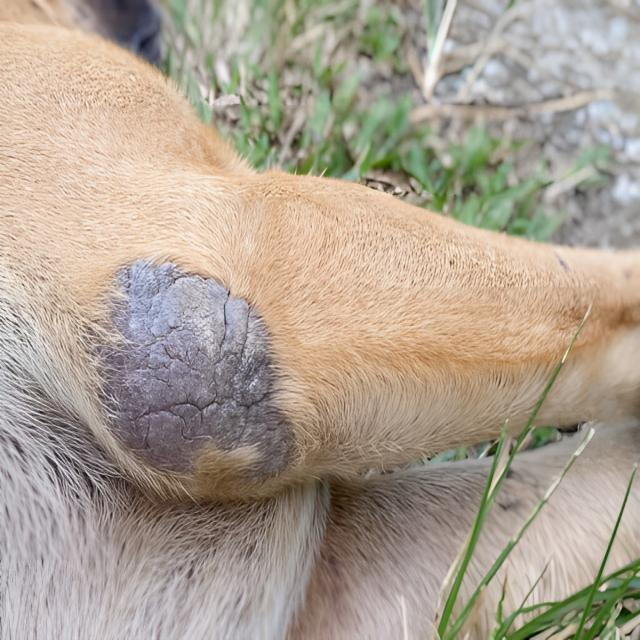allergic dermatitis: (96, 252, 312, 488)
